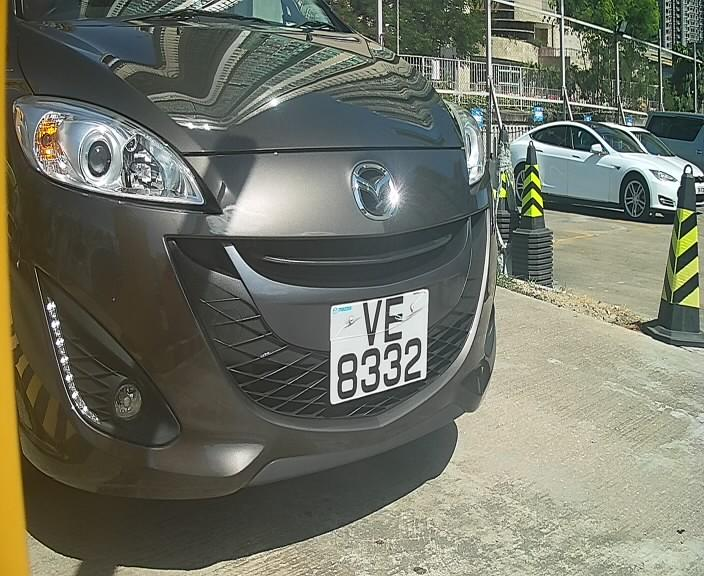License Plate: (321, 283, 431, 409)
